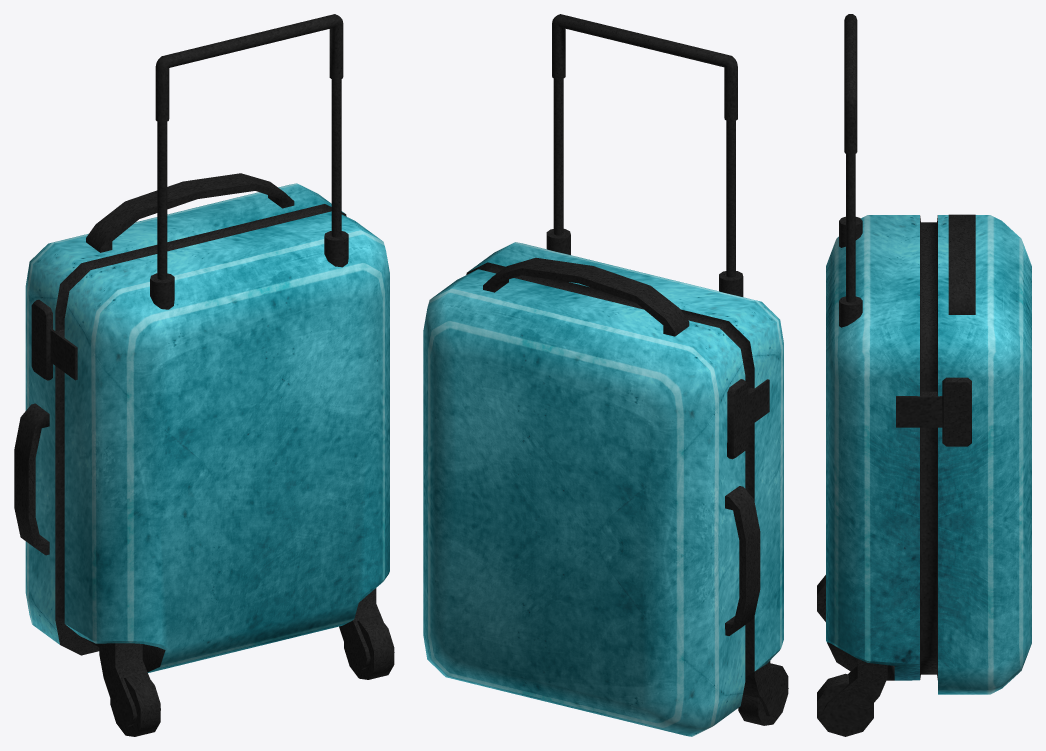
File: suitcase_7.fbx
The picture shows the model from 3 angles, left to right: view 1: azimuth 30°, elevation 25°; view 2: azimuth 150°, elevation 25°; view 3: azimuth 270°, elevation 25°; orthographic projection. The views are drawn at different scales.
Parts seen in each view (by area): view 1: suitcase_7; view 2: suitcase_7; view 3: suitcase_7.
Part boxes in pixels (x1,y1,x2,y2): suitcase_7: [14, 14, 394, 736]; suitcase_7: [423, 14, 788, 736]; suitcase_7: [817, 14, 1031, 736].
Bounding box in the file's own units: 0.7382 × 1.46 × 0.4539.
